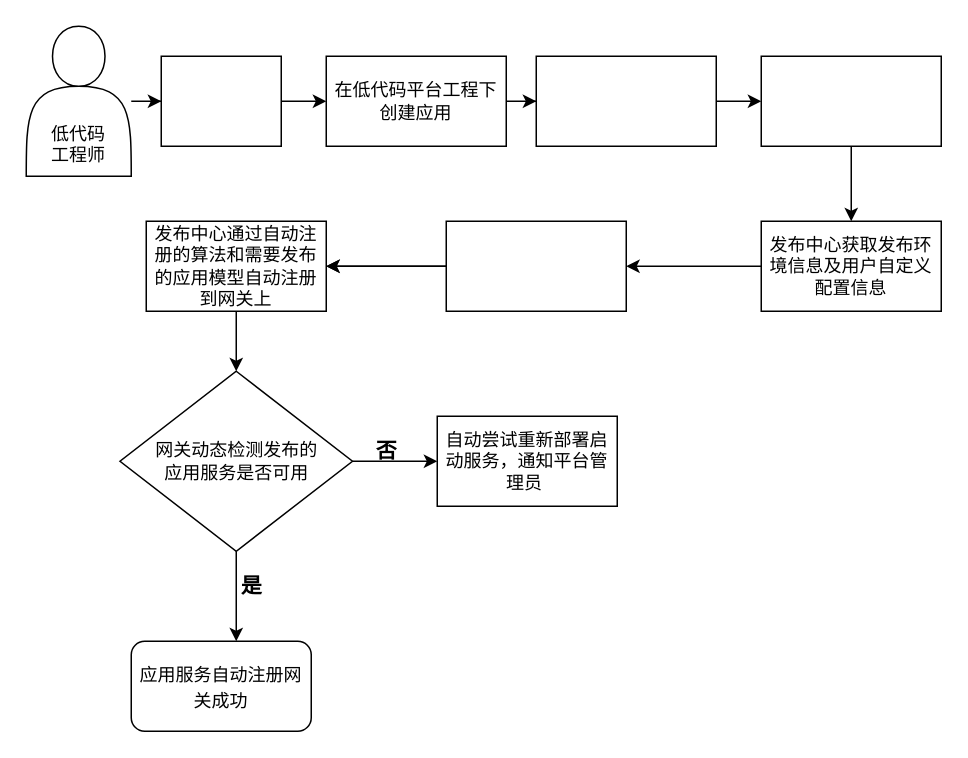
Image size: 968x758. Some labels were removed from this diagram. The centre of each missing label's shape, as x and y in pixels:
"发布中心根据环境信息、配置信息和应用的模型找到对应的网关" goes at pixel 535 265.
"在低代码平台创建工程" goes at pixel 220 100.
"通过发布中心发布应用" goes at pixel 850 100.
"通过拖拽、绑定 API 等方式实现应用的相关功能" goes at pixel 625 100.
